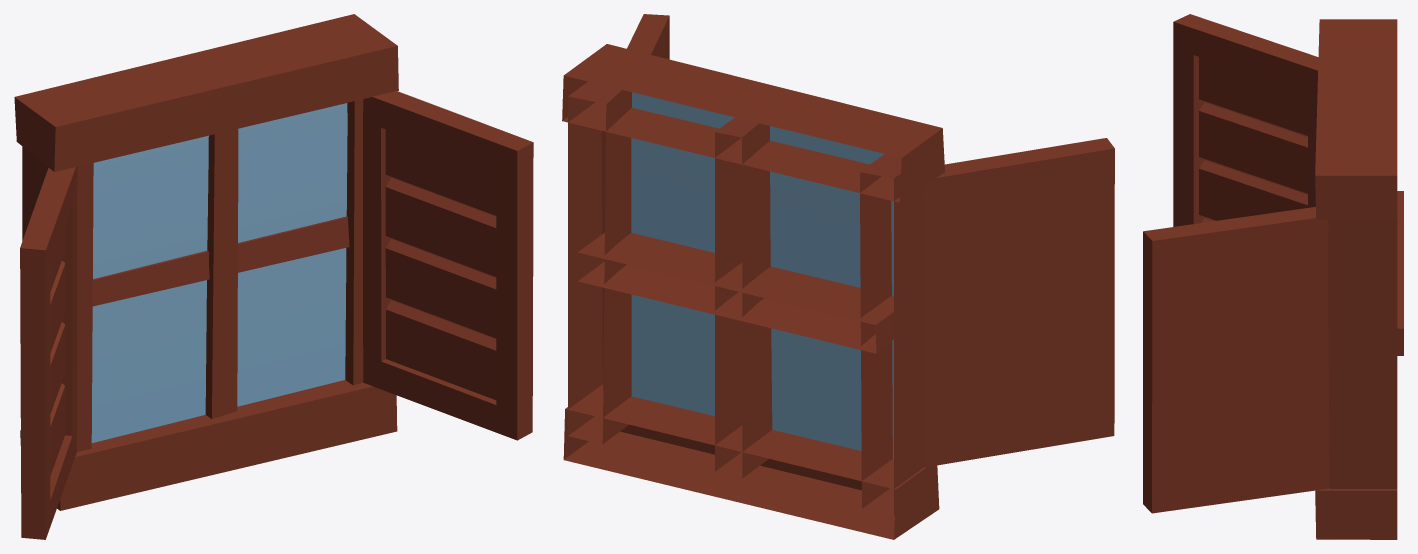
The model's file is House_Window_D.fbx.
3 renders of one model, left to right at view 1: azimuth 30°, elevation 25°; view 2: azimuth 150°, elevation 25°; view 3: azimuth 270°, elevation 25°, orthographic. The views are drawn at different scales.
Parts seen in each view (by area): view 1: House_Window_D; view 2: House_Window_D; view 3: House_Window_D.
Boxes of the visible parts, left/top/right/bottom form: House_Window_D: left=14, top=14, right=533, bottom=539; House_Window_D: left=562, top=14, right=1114, bottom=539; House_Window_D: left=1143, top=14, right=1403, bottom=539.
Bounding box in the file's own units: 127 × 95.07 × 61.67.
